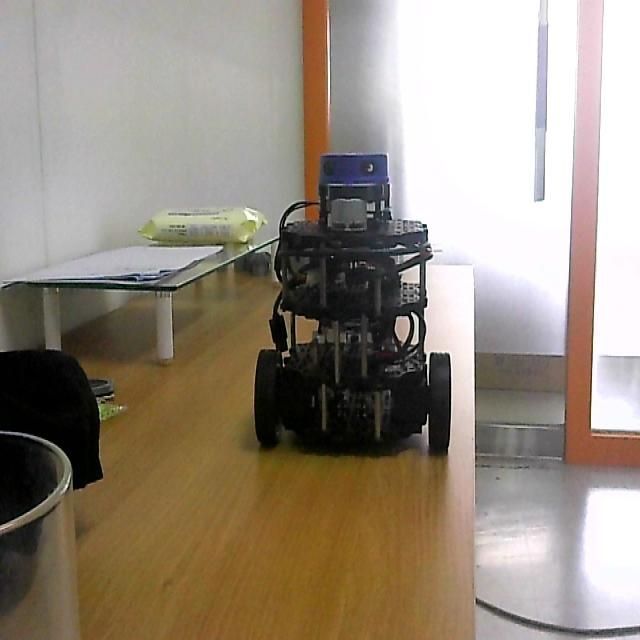turtle: (251, 150, 454, 458)
